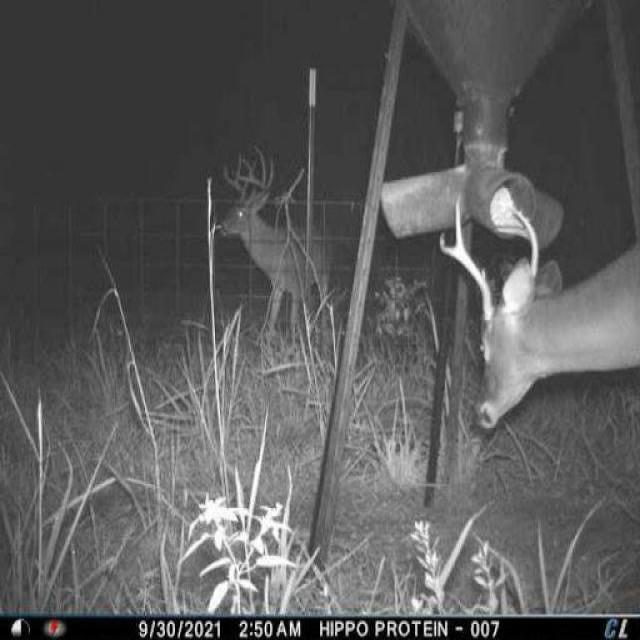deer: (440, 183, 640, 438), (210, 140, 349, 348)
